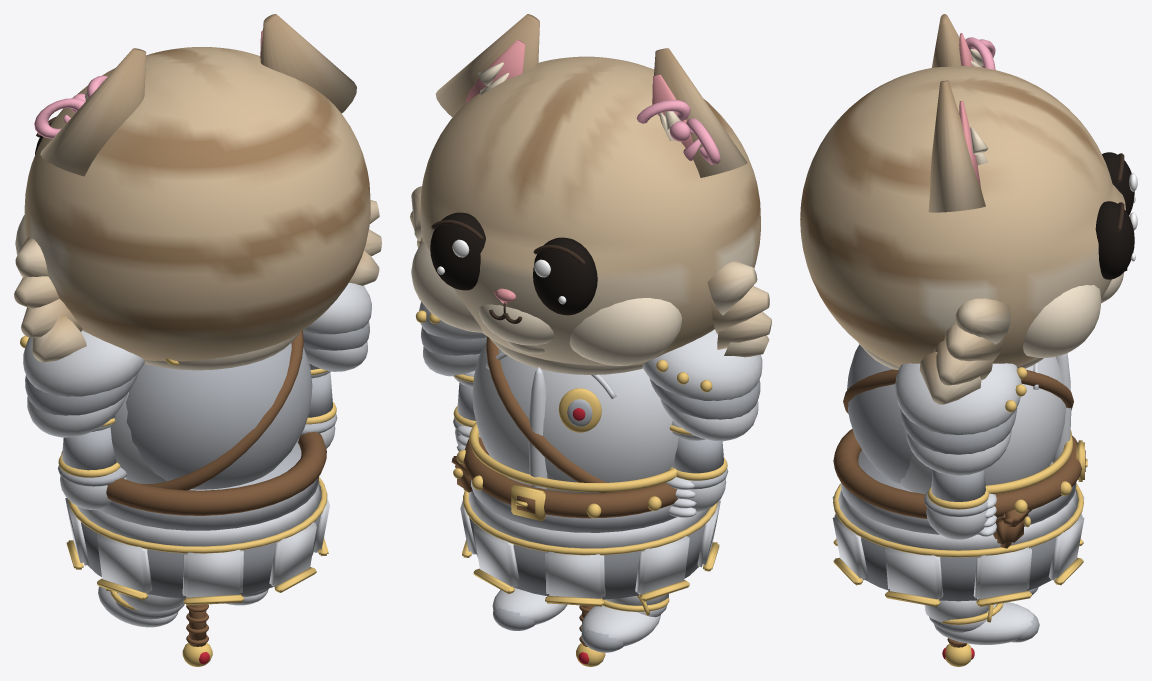
Rendered from cat.glb.
3 views of the same model, side by side, from view 1: azimuth 30°, elevation 25°; view 2: azimuth 150°, elevation 25°; view 3: azimuth 270°, elevation 25° (orthographic). The views are drawn at different scales.
Visible parts, largest first — view 1: cat_head, cat_body, cat_armL, cat_legL, cat_armR, cat_sword; view 2: cat_head, cat_body, cat_armL, cat_legL, cat_legR, cat_armR, cat_sword; view 3: cat_head, cat_body, cat_armR, cat_legR, cat_sword.
Part boxes in pixels (x1,y1,x2,y2): cat_head: (14,14,381,362); cat_body: (20,283,371,605); cat_armL: (58,415,126,509); cat_legL: (98,586,184,627); cat_armR: (296,364,337,448); cat_sword: (182,604,212,666); cat_head: (410,14,771,366); cat_body: (415,302,762,606); cat_armL: (665,420,728,517); cat_legL: (581,594,669,652); cat_legR: (492,588,567,630); cat_armR: (453,371,480,451); cat_sword: (576,605,605,666); cat_head: (800,14,1137,404); cat_body: (832,342,1087,606); cat_armR: (924,470,996,539); cat_legR: (924,600,1039,644); cat_sword: (942,638,974,666).
Bounding box in the file's own units: 1.05 × 1.76 × 0.874.
